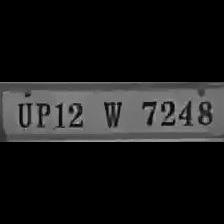1: (50, 99, 66, 129)
2: (62, 98, 90, 130), (156, 97, 176, 127)
4: (174, 96, 194, 126)
7: (135, 97, 159, 127)
8: (194, 98, 214, 127)
P: (32, 100, 52, 128)
U: (12, 98, 32, 128)
W: (95, 97, 129, 129)
